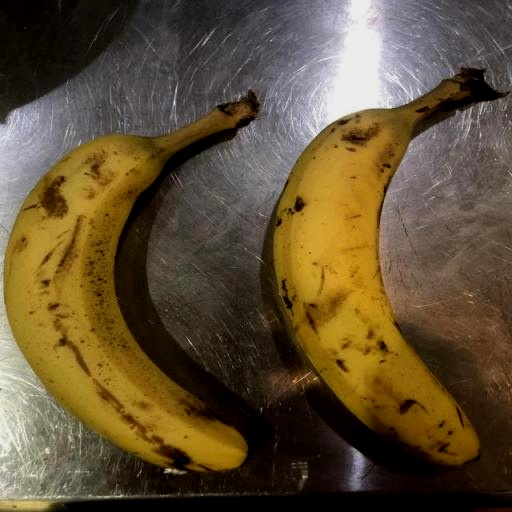fruit: (4, 92, 257, 471), (273, 69, 501, 464)
